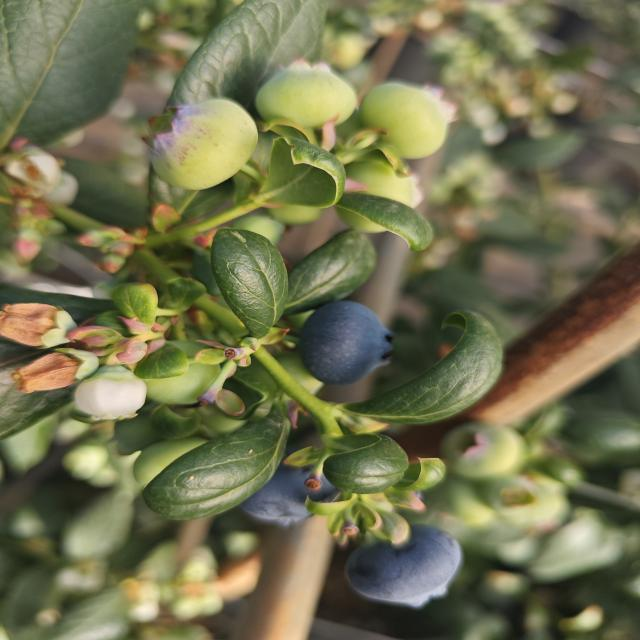ripe: (341, 521, 466, 611), (295, 299, 399, 388), (238, 459, 339, 534)
